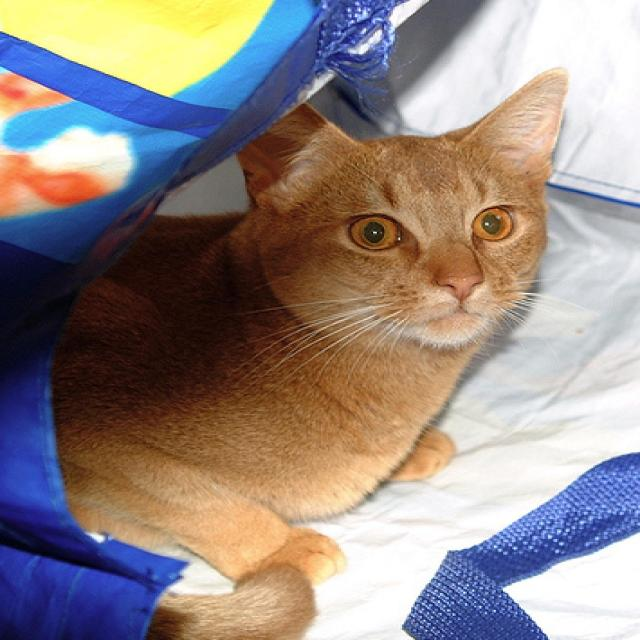Abyssinian: (32, 61, 572, 640)
